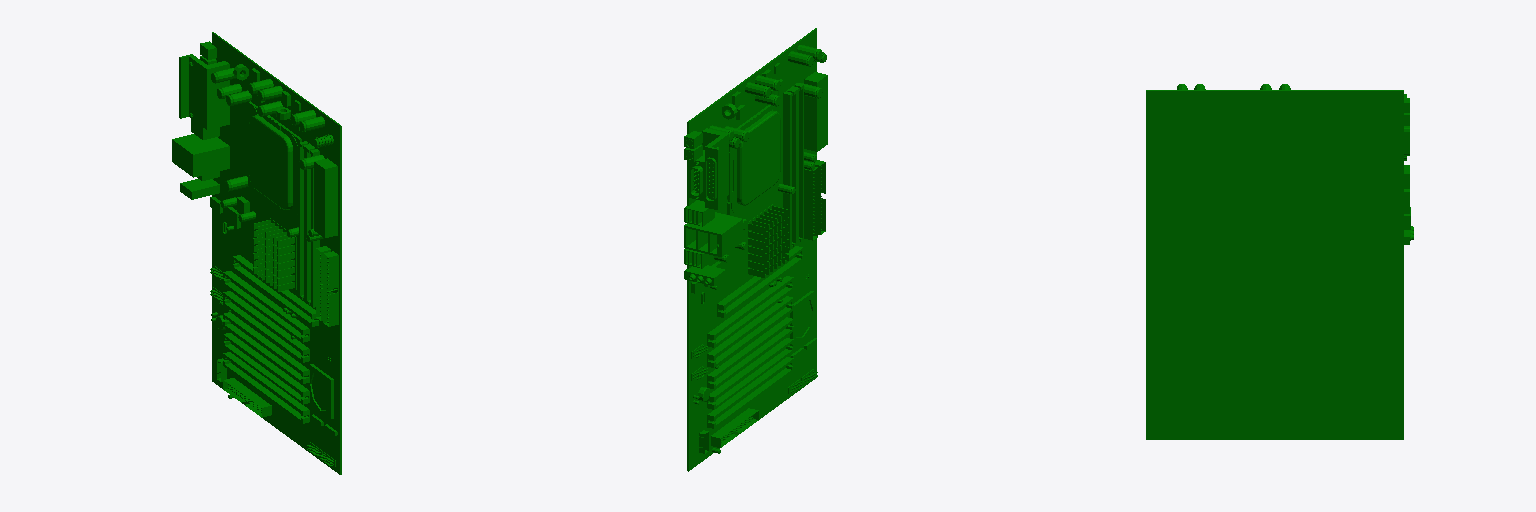
Rendered from Cpu_Mother_Board.obj.
3 renders of one model, left to right at view 1: azimuth 30°, elevation 25°; view 2: azimuth 150°, elevation 25°; view 3: azimuth 270°, elevation 25°, orthographic.
Visible parts, largest first — view 1: Cpu_Mother_Board; view 2: Cpu_Mother_Board; view 3: Cpu_Mother_Board.
Part boxes in pixels (x1,y1,x2,y2): Cpu_Mother_Board: (172, 32, 341, 474); Cpu_Mother_Board: (684, 28, 827, 471); Cpu_Mother_Board: (1146, 84, 1413, 439).
Size of the model in its own units: 22.89 by 203 by 141.